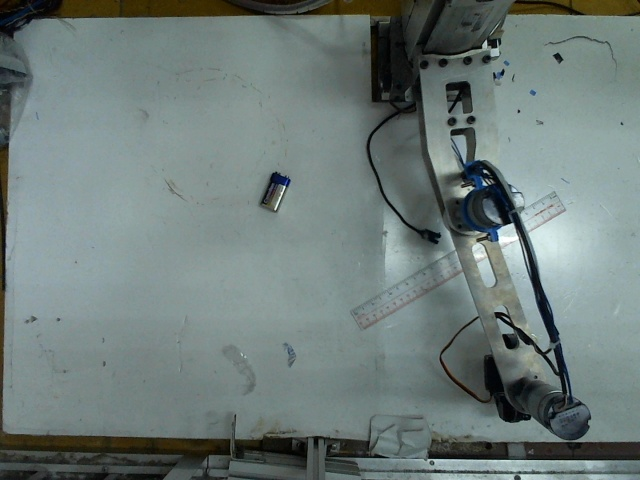battery: (258, 168, 292, 209)
